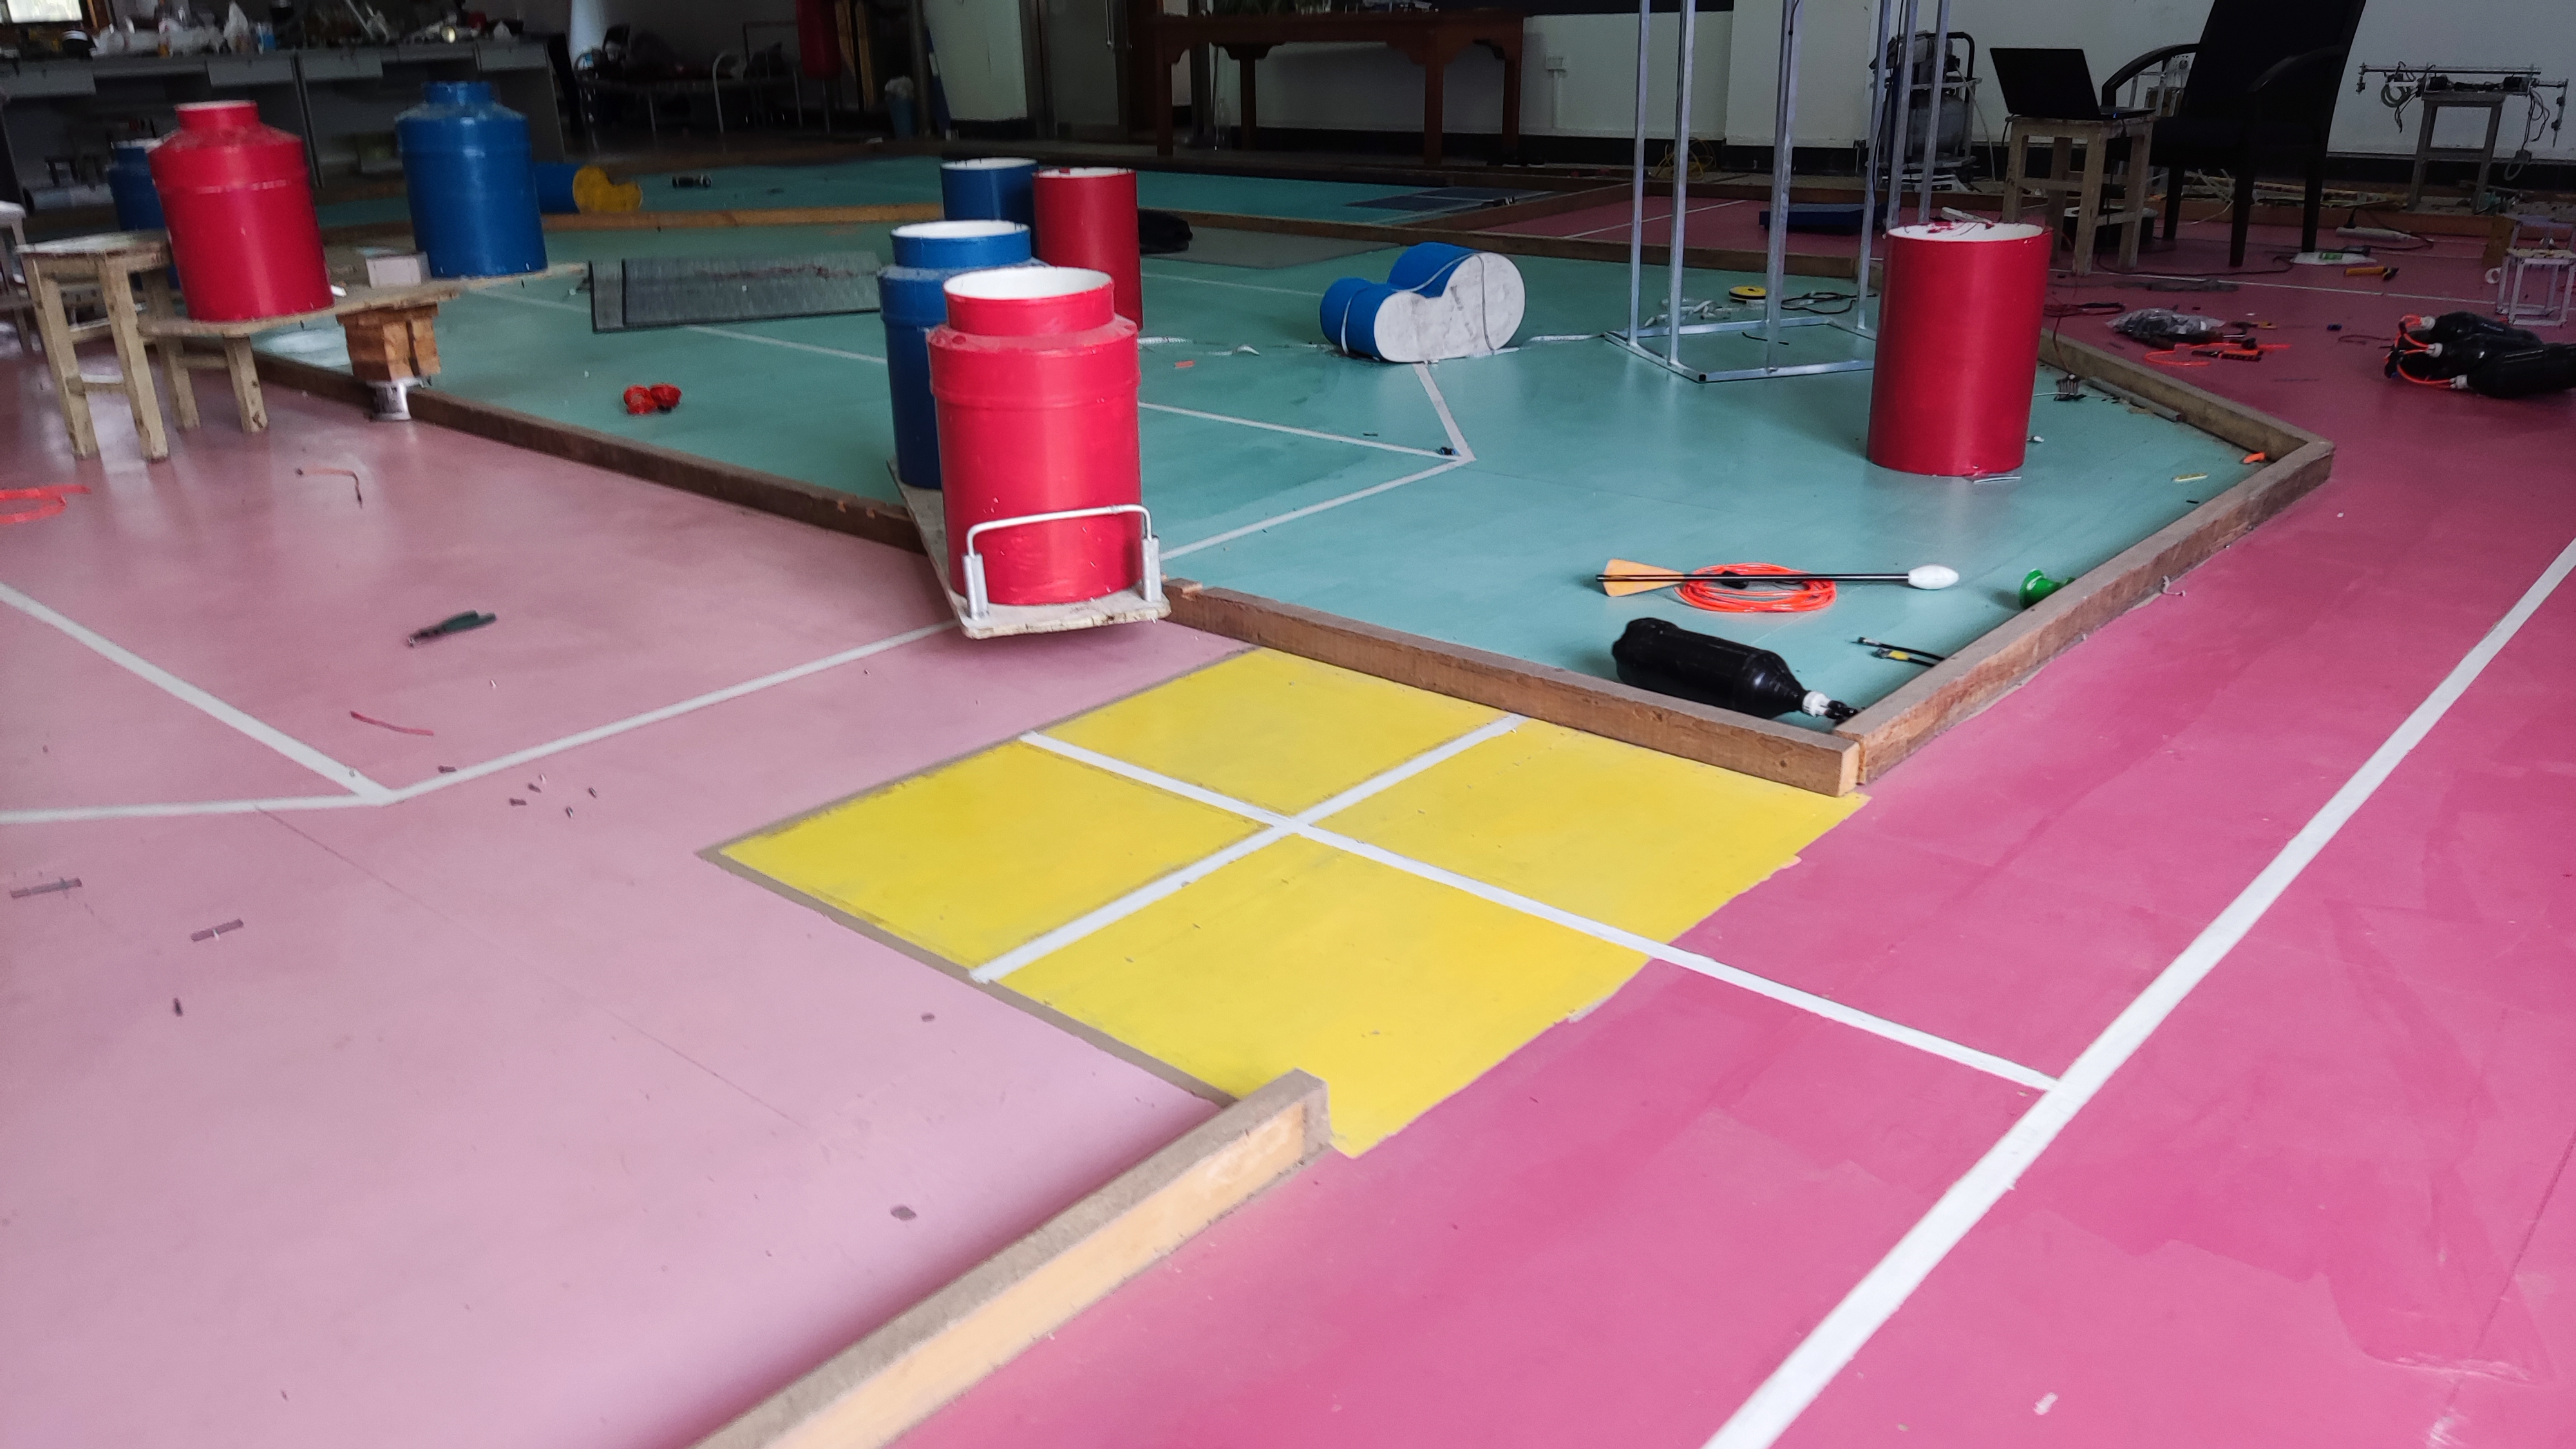arrow: (1589, 545, 1973, 602)
arrowFront: (1905, 556, 1960, 598)
redBucket: (932, 265, 1157, 612), (1867, 218, 2036, 483), (138, 97, 329, 327)
